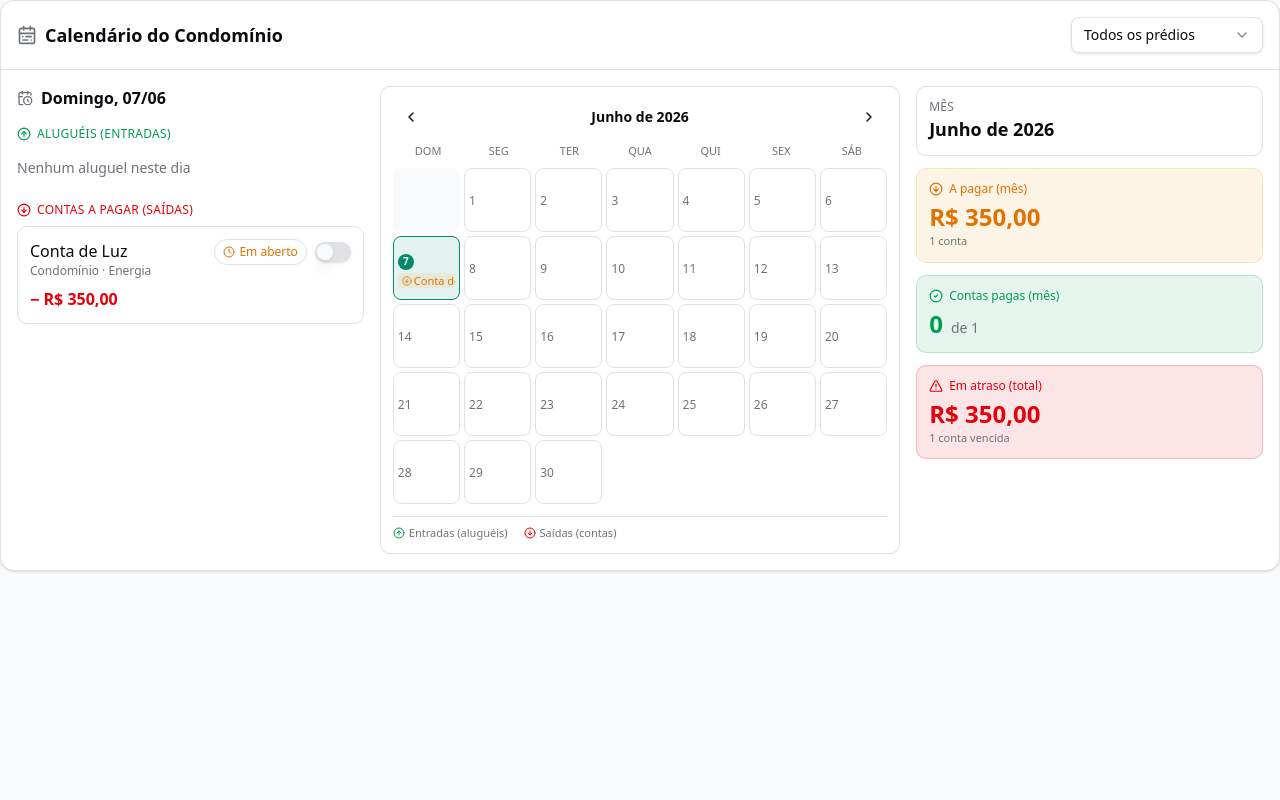
CombinedCalendarSection › opens the payment dialog when a bill toggle is used
The image size is (1280, 800).
Click the switch. click: click(333, 252)
box: left=315, top=242, right=351, bottom=262
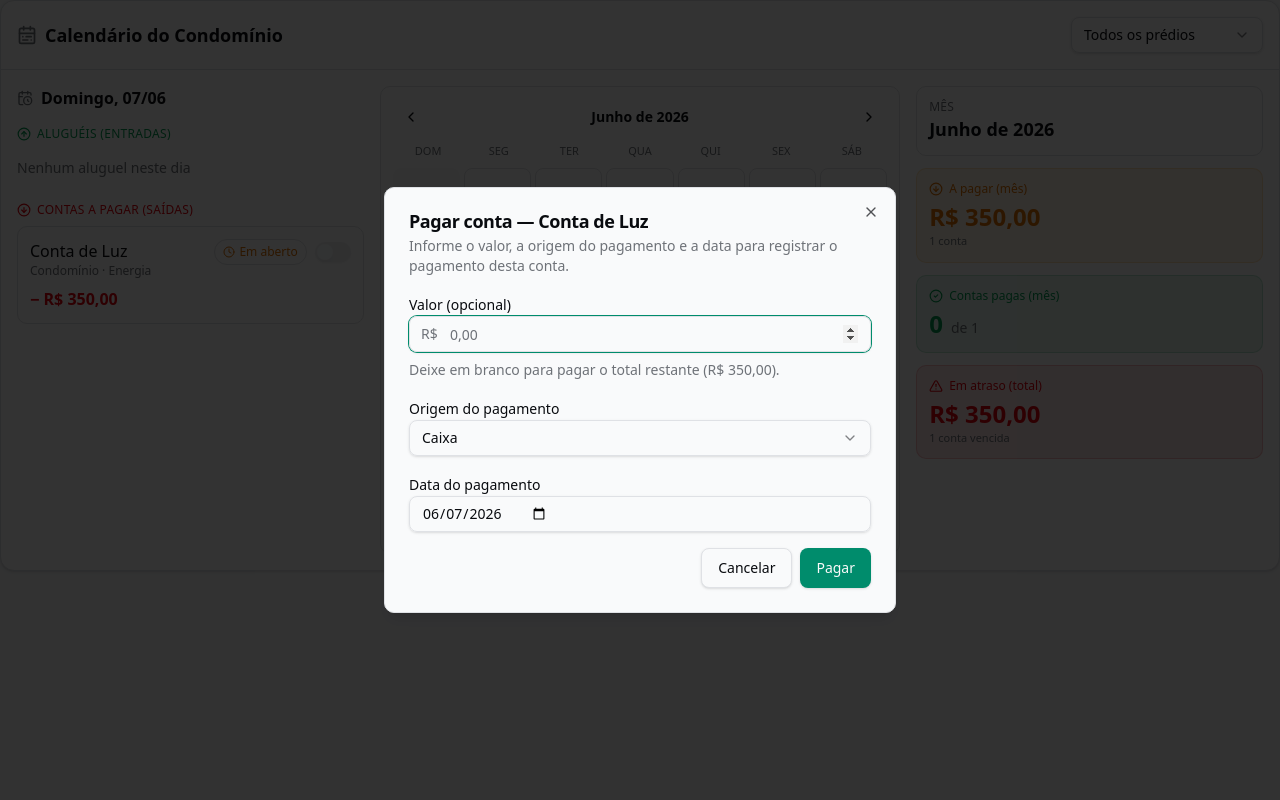
expect the dialog is shown: met, box left=384, top=187, right=896, bottom=613
expect the heading "Pagar conta — Conta de Luz" is shown: met, box left=409, top=209, right=648, bottom=233
